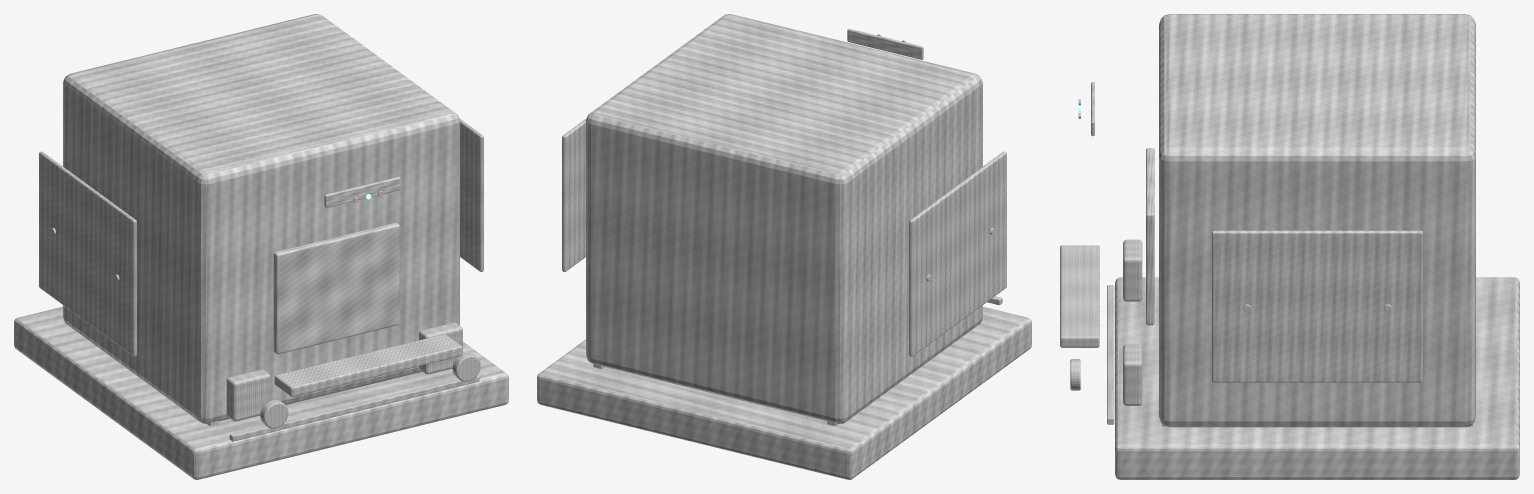
Rendered from packager_variant_c.glb.
3 renders of one model, left to right at view 1: azimuth 30°, elevation 25°; view 2: azimuth 150°, elevation 25°; view 3: azimuth 270°, elevation 25°, orthographic. The views are drawn at different scales.
Parts seen in each view (by area): view 1: Main machine shell.002, Foundation skid.002, Side access panel.004, Packaging throat.002, Canister loading tray.003, Side access panel.005, Amber safety sill.003, Input output port.004, Status panel.002, Input output port.005, Port coupling.004, Port coupling.005; view 2: Main machine shell.002, Foundation skid.002, Side access panel.004, Side access panel.005, Status panel.002; view 3: Main machine shell.002, Foundation skid.002, Side access panel.005, Canister loading tray.003, Packaging throat.002, Input output port.004, Input output port.005, Amber safety sill.003.
Part boxes in pixels (x1=…): Main machine shell.002: x1=63, y1=14, x2=459, y2=423; Foundation skid.002: x1=14, y1=306, x2=508, y2=479; Side access panel.004: x1=39, y1=151, x2=136, y2=356; Packaging throat.002: x1=273, y1=222, x2=399, y2=354; Canister loading tray.003: x1=274, y1=334, x2=462, y2=396; Side access panel.005: x1=459, y1=118, x2=483, y2=271; Amber safety sill.003: x1=229, y1=375, x2=479, y2=441; Input output port.004: x1=226, y1=369, x2=270, y2=421; Status panel.002: x1=324, y1=176, x2=400, y2=207; Input output port.005: x1=419, y1=322, x2=462, y2=374; Port coupling.004: x1=260, y1=400, x2=288, y2=428; Port coupling.005: x1=452, y1=353, x2=480, y2=381; Main machine shell.002: x1=586, y1=14, x2=982, y2=423; Foundation skid.002: x1=537, y1=306, x2=1031, y2=479; Side access panel.004: x1=909, y1=151, x2=1006, y2=356; Side access panel.005: x1=562, y1=118, x2=586, y2=271; Status panel.002: x1=847, y1=28, x2=923, y2=59; Main machine shell.002: x1=1159, y1=14, x2=1475, y2=427; Foundation skid.002: x1=1115, y1=277, x2=1519, y2=479; Side access panel.005: x1=1212, y1=230, x2=1422, y2=382; Canister loading tray.003: x1=1060, y1=245, x2=1099, y2=347; Packaging throat.002: x1=1146, y1=148, x2=1154, y2=325; Input output port.004: x1=1123, y1=239, x2=1142, y2=301; Input output port.005: x1=1123, y1=344, x2=1142, y2=405; Amber safety sill.003: x1=1107, y1=285, x2=1114, y2=424.
Size of what is drawn, in the model's own units: 5.16 by 3.95 by 5.22.
6 materials, 6 textured.
